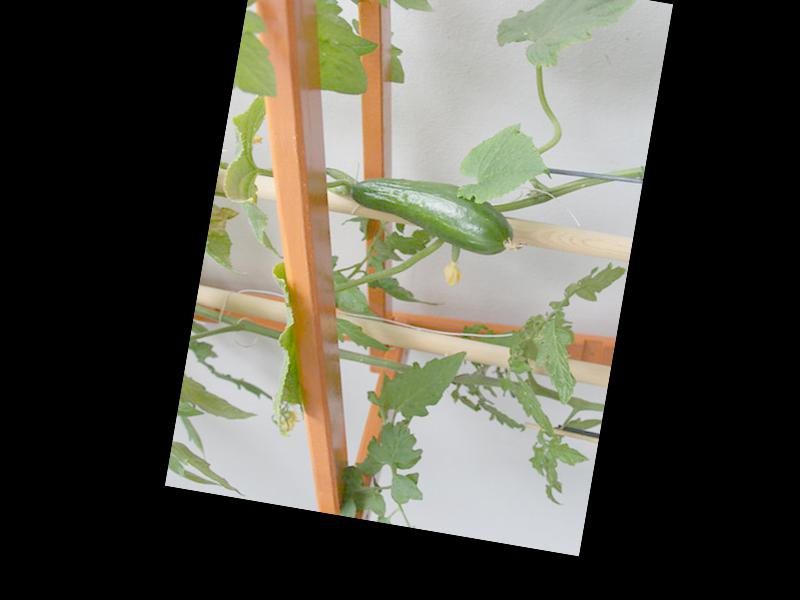Cucumber: (345, 169, 531, 261)
